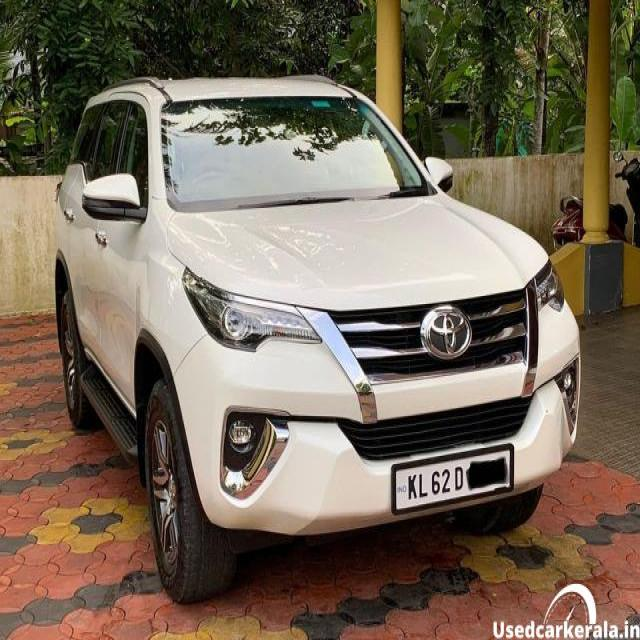light_vehicle: (51, 74, 582, 606)
